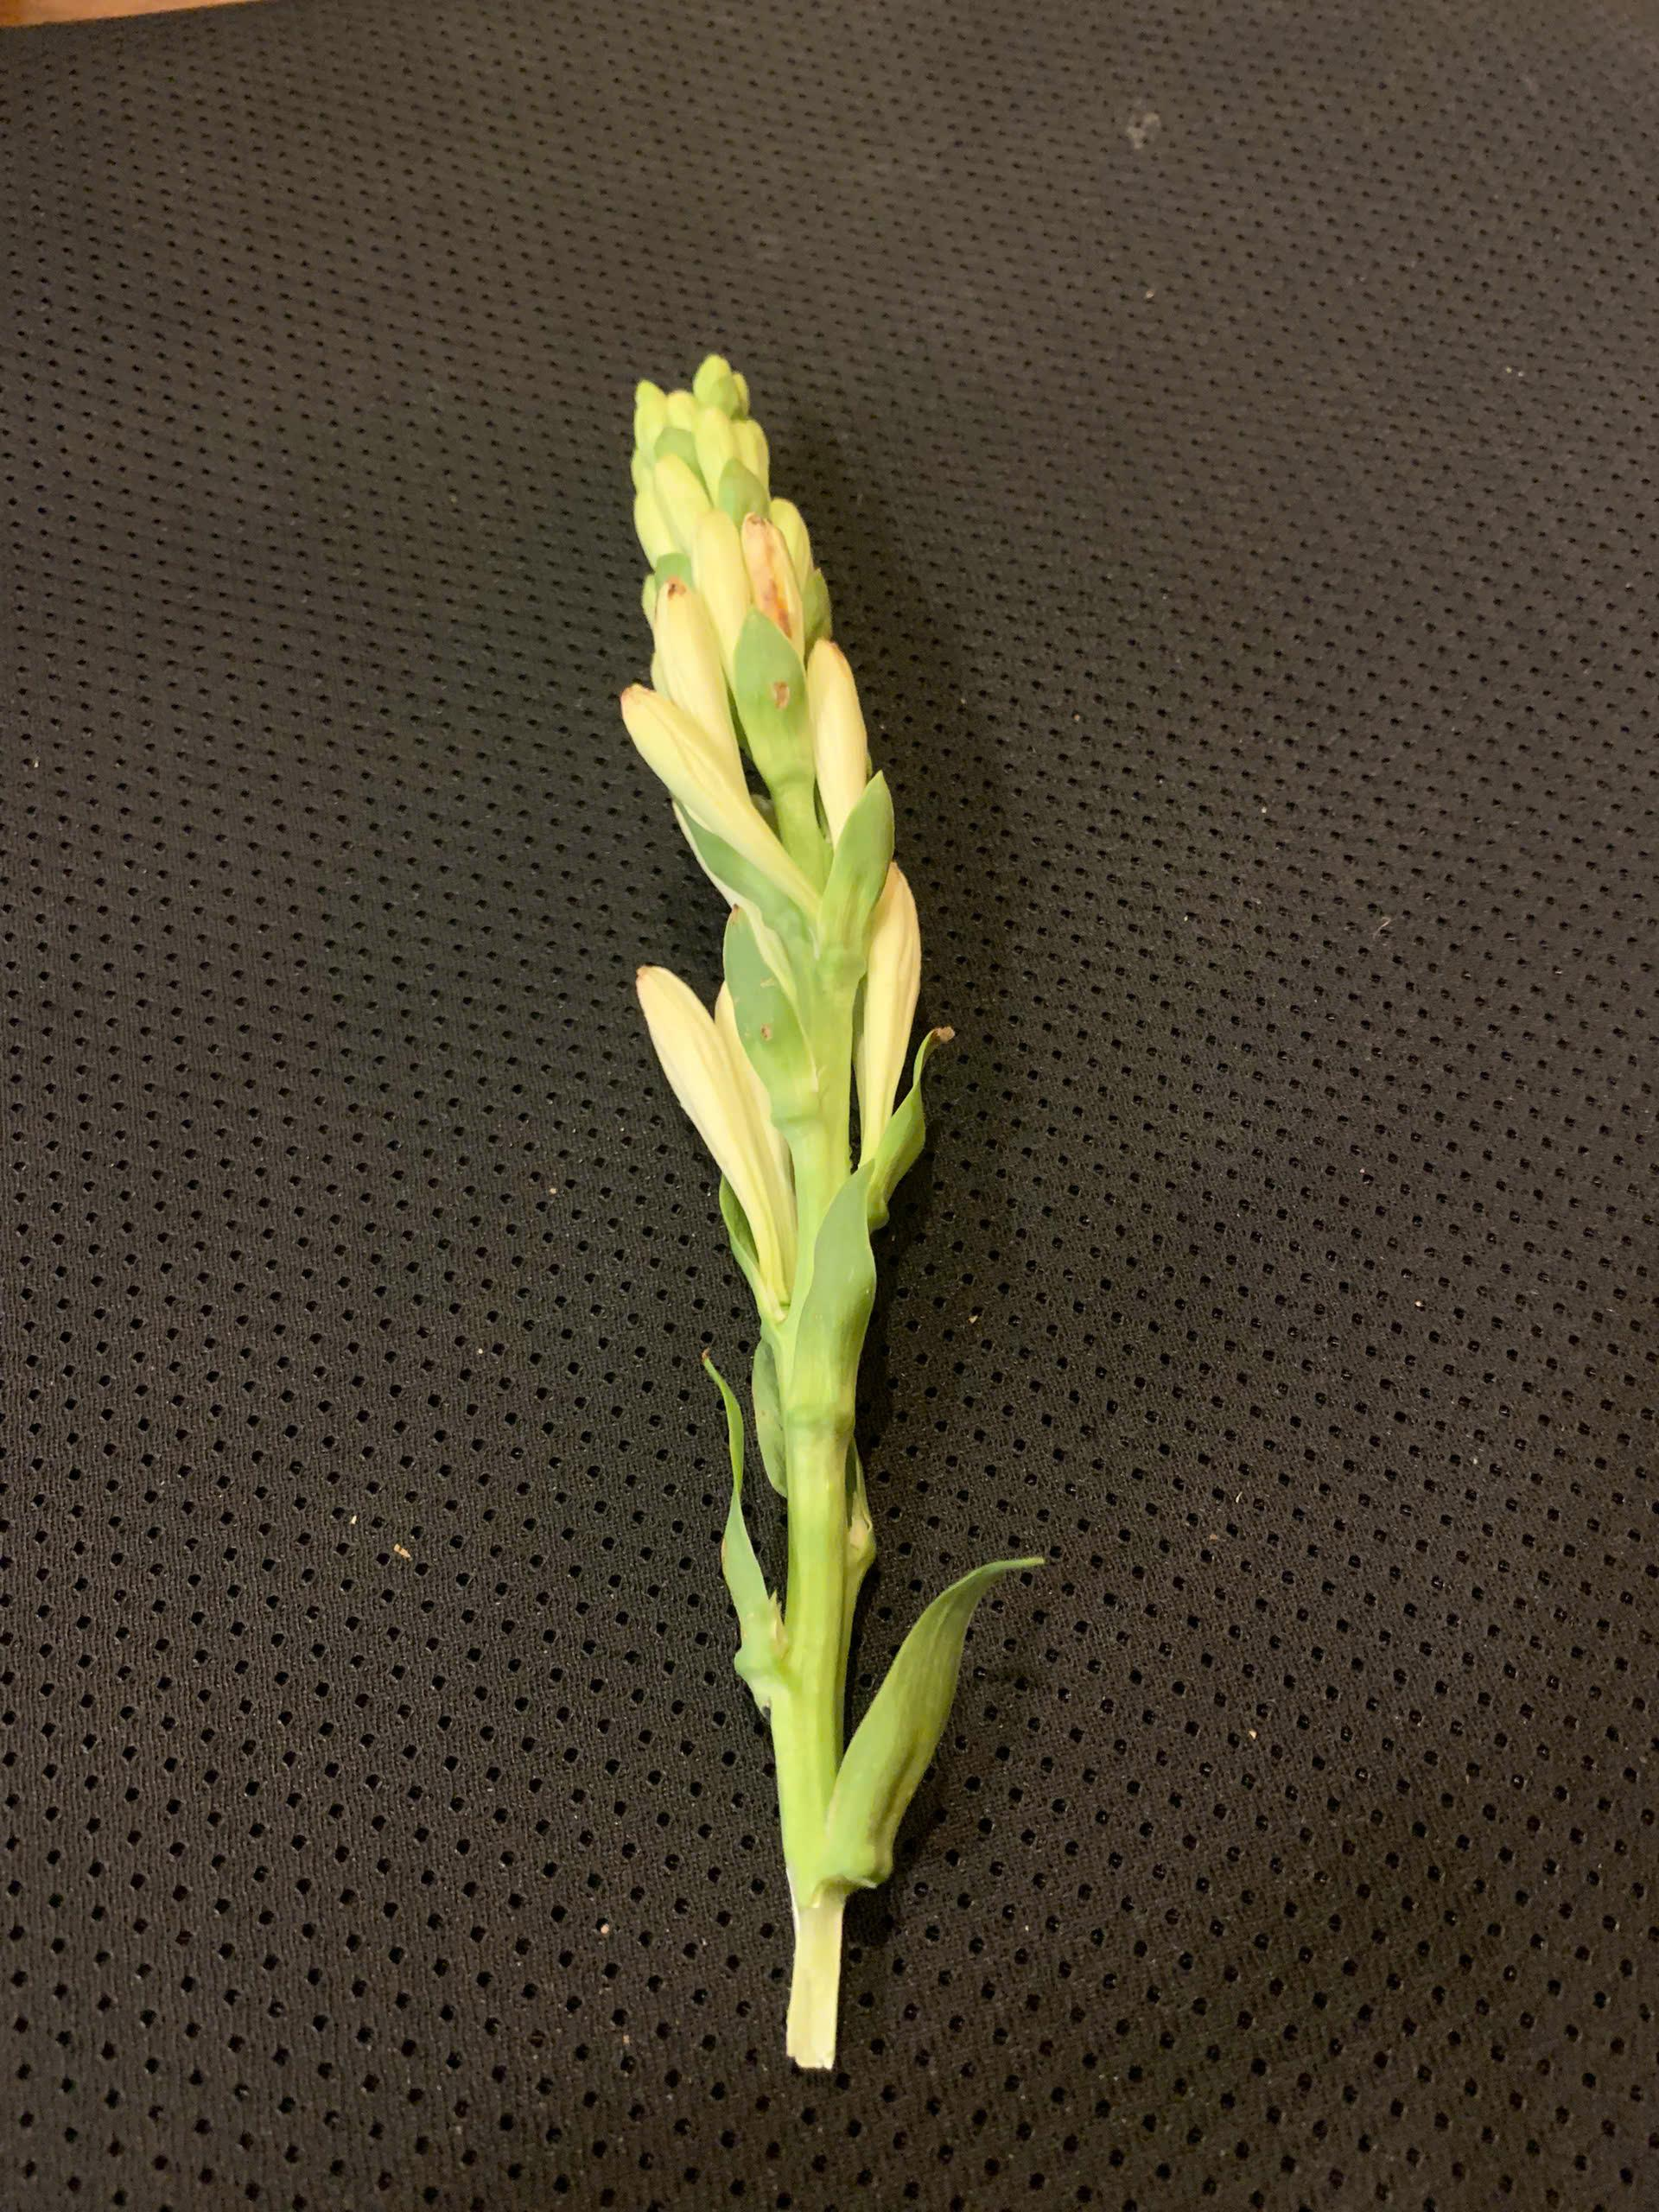Huu co: (622, 355, 1047, 2078)
